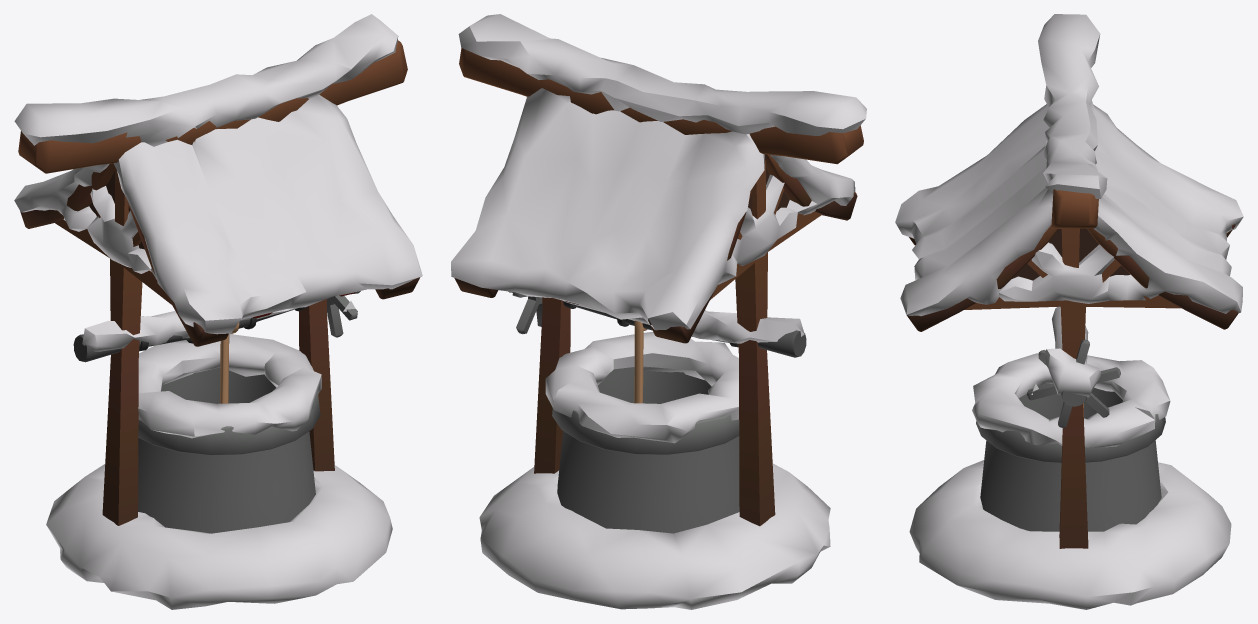
Rendered from WellSnowy_1.fbx.
The picture shows the model from 3 angles, left to right: view 1: azimuth 30°, elevation 25°; view 2: azimuth 150°, elevation 25°; view 3: azimuth 270°, elevation 25°; orthographic projection. The views are drawn at different scales.
Visible parts, largest first — view 1: WellSnowy_1; view 2: WellSnowy_1; view 3: WellSnowy_1.
Boxes of the visible parts, x1,y1,x2,y2 form: WellSnowy_1: [14, 14, 422, 609]; WellSnowy_1: [451, 14, 866, 609]; WellSnowy_1: [895, 14, 1243, 609].
Bounding box in the file's own units: 186 × 222 × 156.
